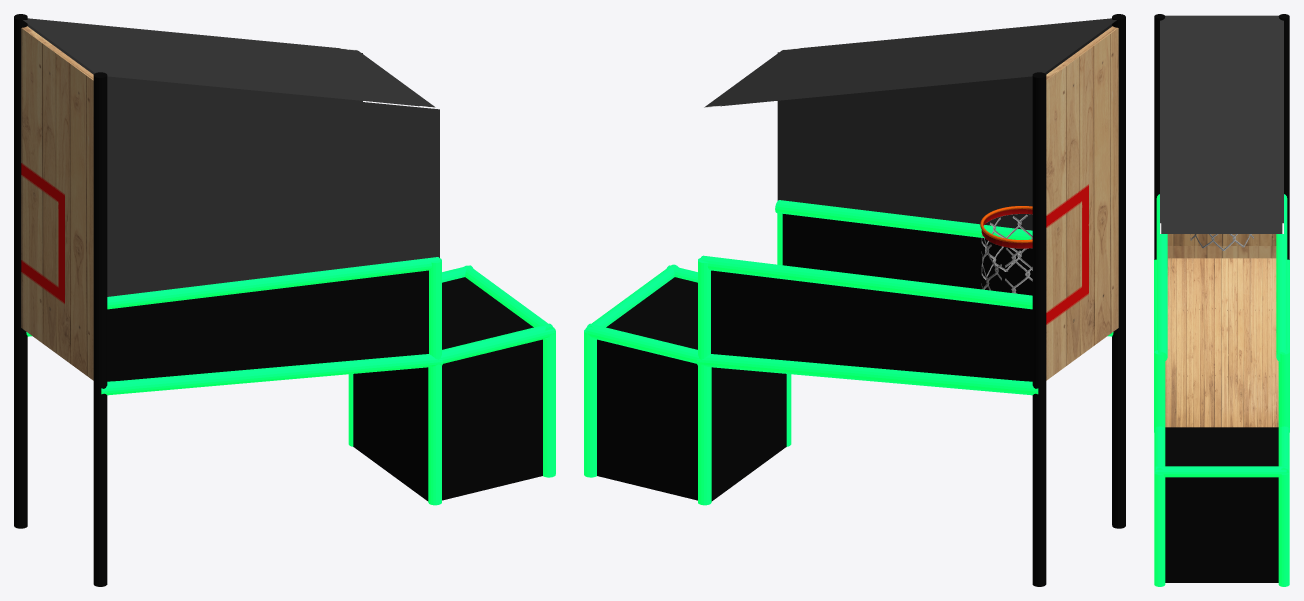
File: cansta2.fbx
The picture shows the model from 3 angles, left to right: view 1: azimuth 30°, elevation 25°; view 2: azimuth 150°, elevation 25°; view 3: azimuth 270°, elevation 25°; orthographic projection. The views are drawn at different scales.
Parts seen in each view (by area): view 1: Plane.002, Cube.003, Cube.002, Cube.004, Plane.003, Cylinder.006, Cylinder.010, Cylinder.008, Cylinder.004, Cylinder.007, Cylinder.005, Cylinder.009; view 2: Cube.002, Plane.002, Cube.003, Cube.004, Plane.003, Cylinder.006, Cylinder.008, Cylinder.010, Cylinder.004, Cylinder.007, Cylinder.005, Cylinder.003 (+1 smaller); view 3: Plane.003, Plane.001, Cube.003, Cylinder.008, Cylinder.005, Cube.004, Cylinder.006, Cylinder.004, Cylinder.009, Cylinder.007, Cylinder.010, Cylinder.003.
Part boxes in pixels (bbox=[...]): Plane.002: bbox=[27, 24, 439, 296]; Cube.003: bbox=[353, 277, 542, 501]; Cube.002: bbox=[107, 270, 428, 381]; Cube.004: bbox=[21, 26, 93, 380]; Plane.003: bbox=[23, 18, 435, 107]; Cylinder.006: bbox=[14, 14, 107, 586]; Cylinder.010: bbox=[26, 332, 442, 395]; Cylinder.008: bbox=[107, 257, 439, 309]; Cylinder.004: bbox=[348, 258, 441, 505]; Cylinder.007: bbox=[440, 265, 554, 363]; Cylinder.005: bbox=[543, 332, 555, 477]; Cylinder.009: bbox=[464, 265, 555, 339]; Cube.002: bbox=[711, 214, 1032, 381]; Plane.002: bbox=[777, 24, 1111, 230]; Cube.003: bbox=[597, 277, 786, 501]; Cube.004: bbox=[1046, 26, 1118, 380]; Plane.003: bbox=[704, 18, 1116, 107]; Cylinder.006: bbox=[1032, 14, 1125, 586]; Cylinder.008: bbox=[699, 200, 1032, 309]; Cylinder.010: bbox=[696, 332, 1113, 395]; Cylinder.004: bbox=[698, 213, 791, 505]; Cylinder.007: bbox=[585, 265, 699, 363]; Cylinder.005: bbox=[584, 329, 596, 477]; Cylinder.003: bbox=[981, 209, 1032, 293]; Plane.003: bbox=[1160, 15, 1283, 233]; Plane.001: bbox=[1165, 258, 1278, 427]; Cube.003: bbox=[1165, 427, 1278, 582]; Cylinder.008: bbox=[1156, 194, 1287, 361]; Cylinder.005: bbox=[1154, 473, 1289, 586]; Cube.004: bbox=[1167, 234, 1276, 258]; Cylinder.006: bbox=[1154, 14, 1289, 259]; Cylinder.004: bbox=[1154, 350, 1289, 428]; Cylinder.009: bbox=[1155, 466, 1286, 477]; Cylinder.007: bbox=[1154, 426, 1289, 473]; Cylinder.010: bbox=[1154, 259, 1289, 432]; Cylinder.003: bbox=[1190, 234, 1253, 250].
Size of the model in its own units: 385 by 406 by 126.
Materials: 16 (5 with a texture image).
